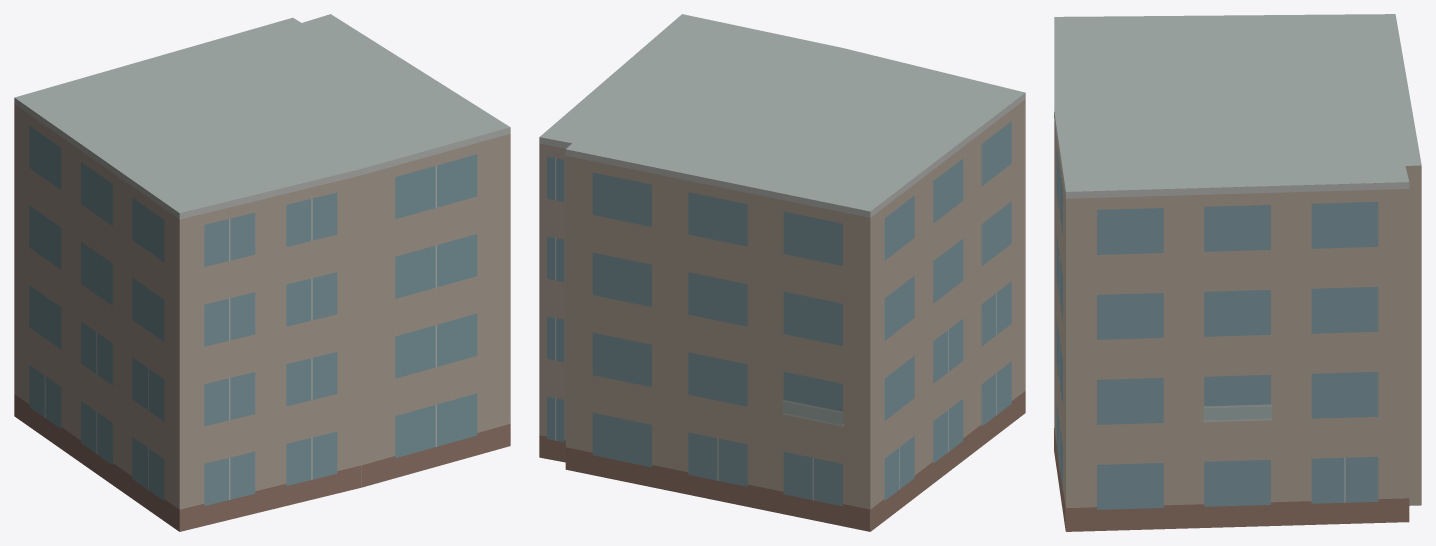
File: survey-upis-32803133.glb
The picture shows the model from 3 angles, left to right: view 1: azimuth 30°, elevation 25°; view 2: azimuth 150°, elevation 25°; view 3: azimuth 270°, elevation 25°; orthographic projection. The views are drawn at different scales.
Visible parts, largest first — view 1: survey-upis-32803133.tmp; view 2: survey-upis-32803133.tmp; view 3: survey-upis-32803133.tmp.
Boxes of the visible parts, x1,y1,x2,y2 form: survey-upis-32803133.tmp: (14,14,510,531); survey-upis-32803133.tmp: (539,14,1025,531); survey-upis-32803133.tmp: (1054,14,1421,531).
Size of the model in its own units: 13.7 by 12.2 by 11.96.
